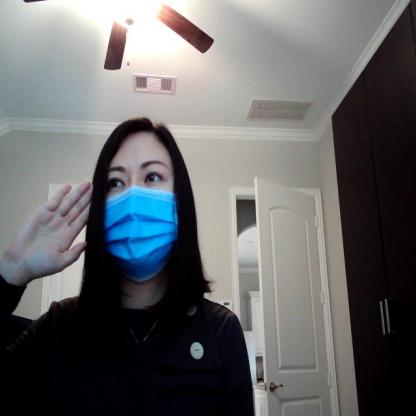hello: (10, 174, 94, 282)
